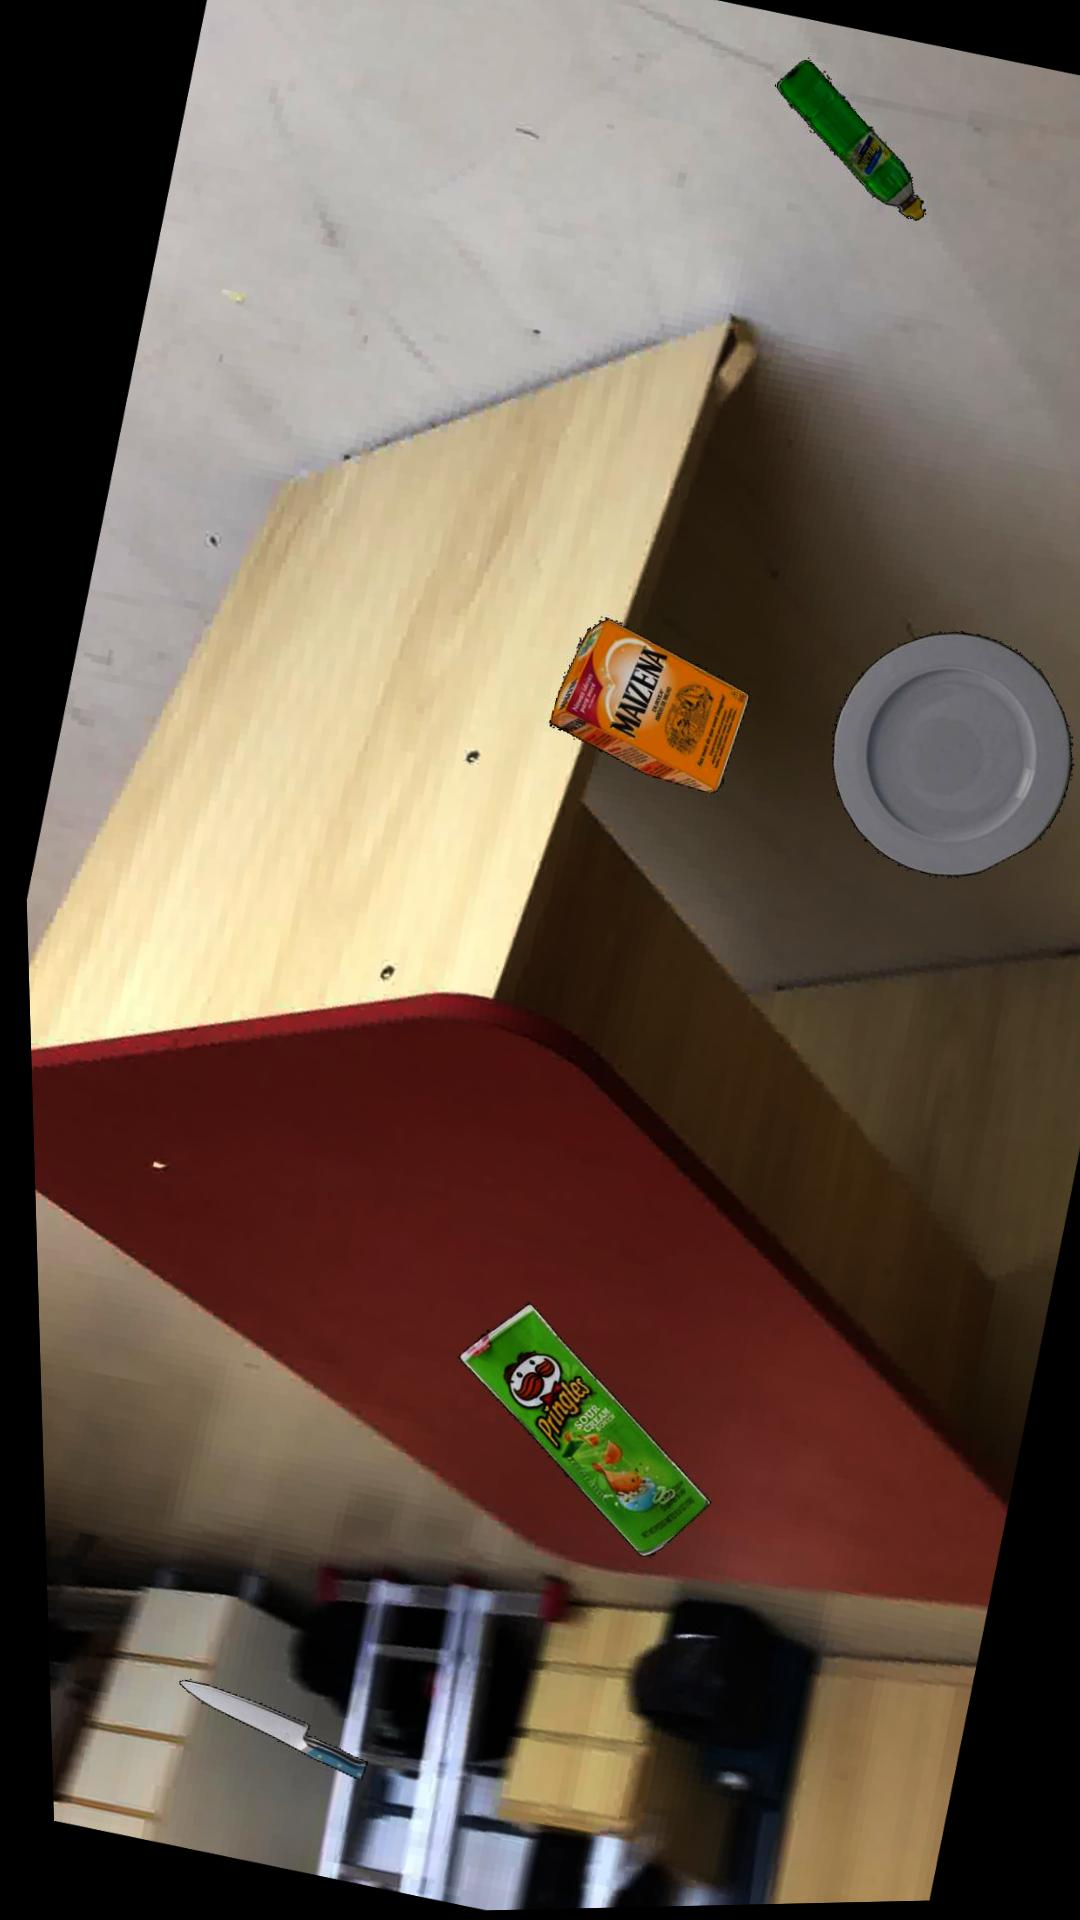cleaner: (774, 65, 923, 225)
knife: (166, 1681, 355, 1782)
plate: (825, 637, 1067, 882)
pringles: (447, 1307, 700, 1560)
